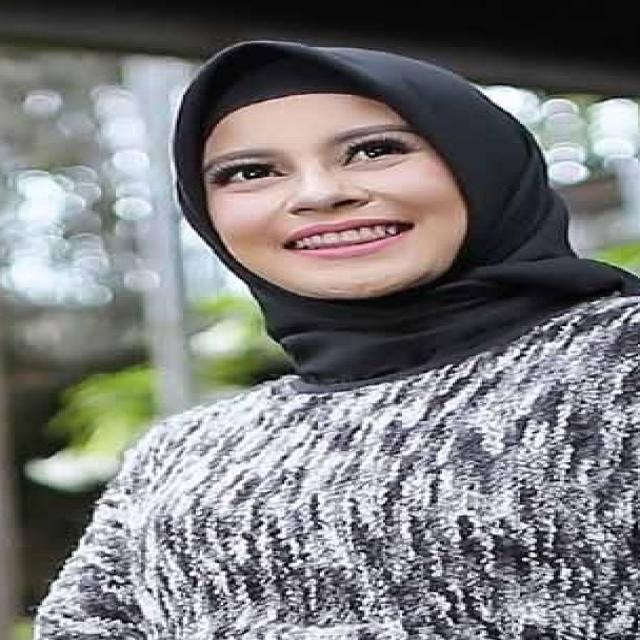head: (128, 32, 538, 307)
